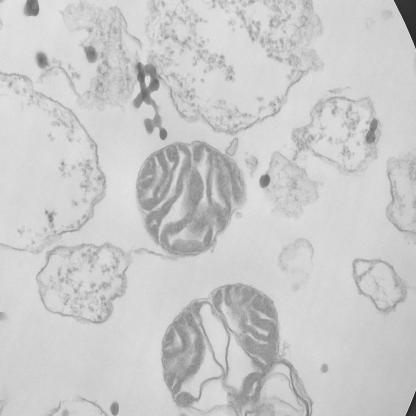mitochondria: (158, 282, 280, 415), (134, 140, 247, 256)
